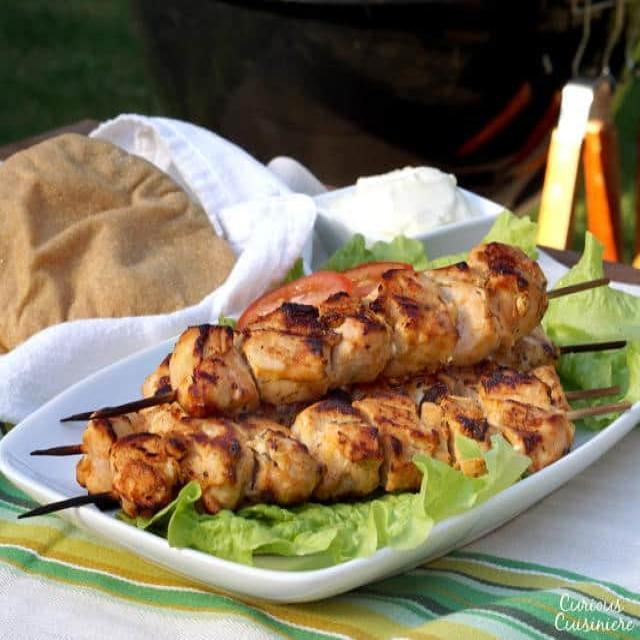shish taouk: (103, 240, 554, 415), (94, 372, 562, 484)
